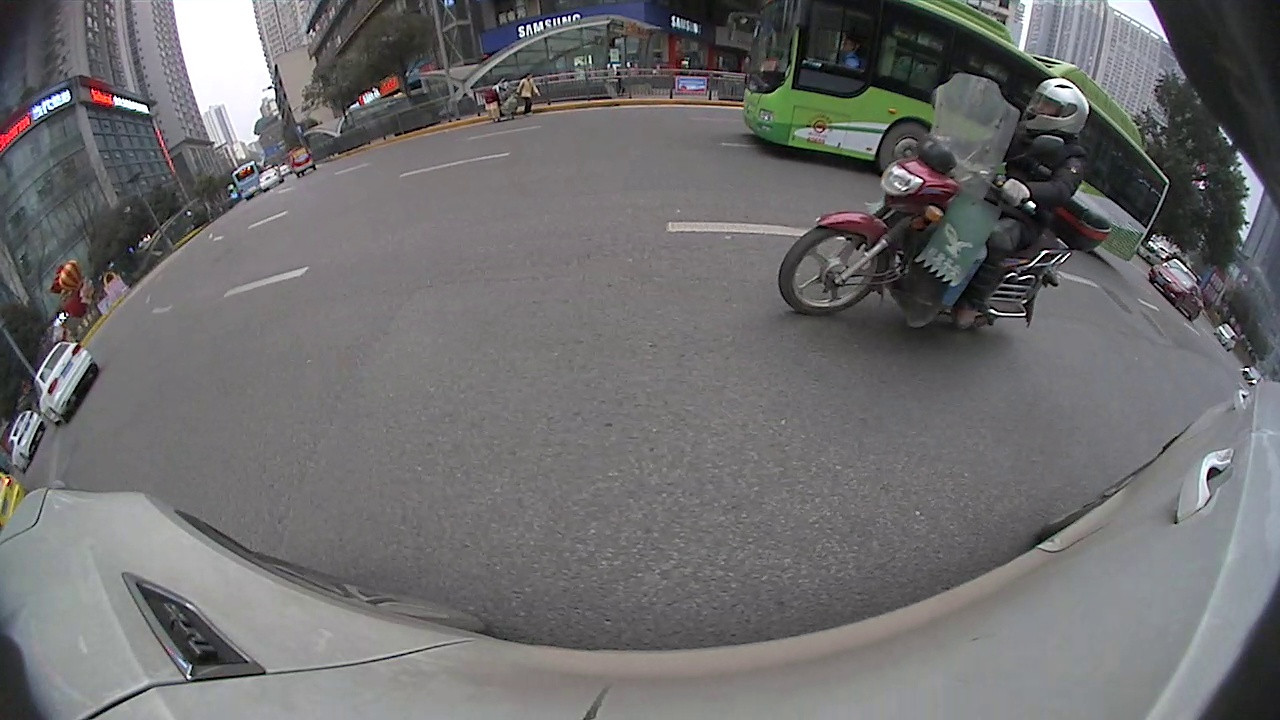bus: (742, 1, 1170, 258), (233, 162, 263, 200)
car: (35, 342, 95, 422), (1150, 260, 1204, 317), (11, 413, 40, 472), (256, 170, 284, 191)
front: (779, 219, 884, 313), (877, 123, 931, 187)
person: (520, 74, 534, 113)
rider: (780, 77, 1091, 325), (293, 145, 313, 178)
